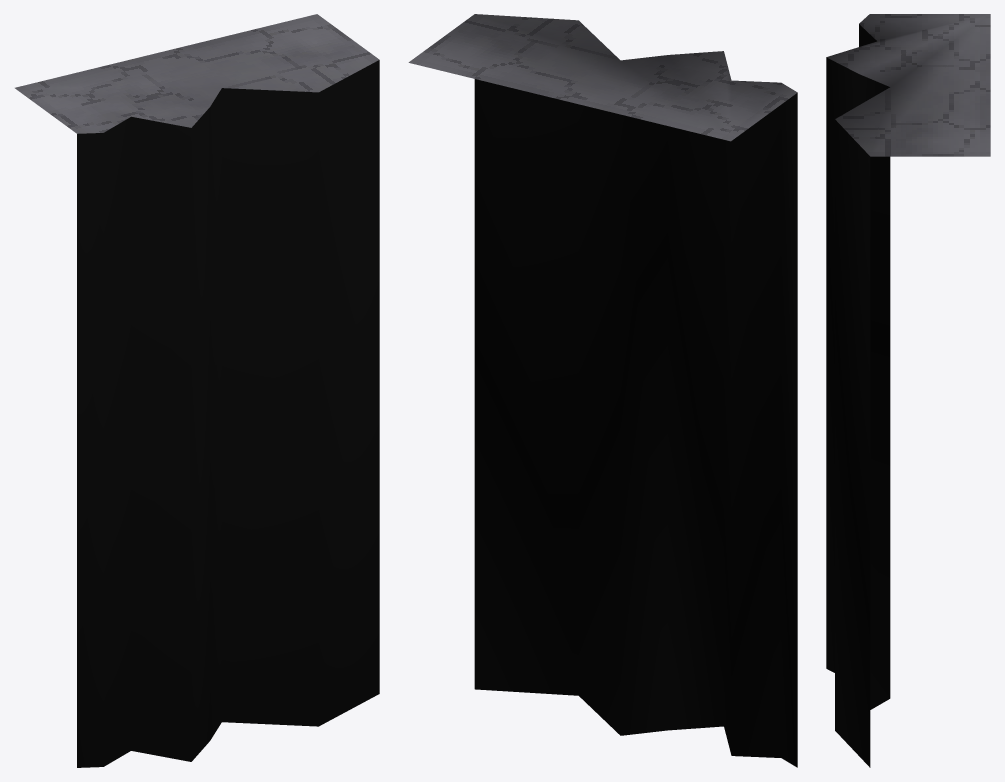
The model's file is hole_3.obj.
3 views of the same model, side by side, from view 1: azimuth 30°, elevation 25°; view 2: azimuth 150°, elevation 25°; view 3: azimuth 270°, elevation 25° (orthographic). The views are drawn at different scales.
Visible parts, largest first — view 1: Cube_Cube.006; view 2: Cube_Cube.006; view 3: Cube_Cube.006.
Boxes of the visible parts, x1,y1,x2,y2 form: Cube_Cube.006: (15,14,379,767); Cube_Cube.006: (408,14,797,767); Cube_Cube.006: (826,14,990,767).
Size of the model in its own units: 4 by 8 by 1.95.
Materials: 2 (1 with a texture image).
